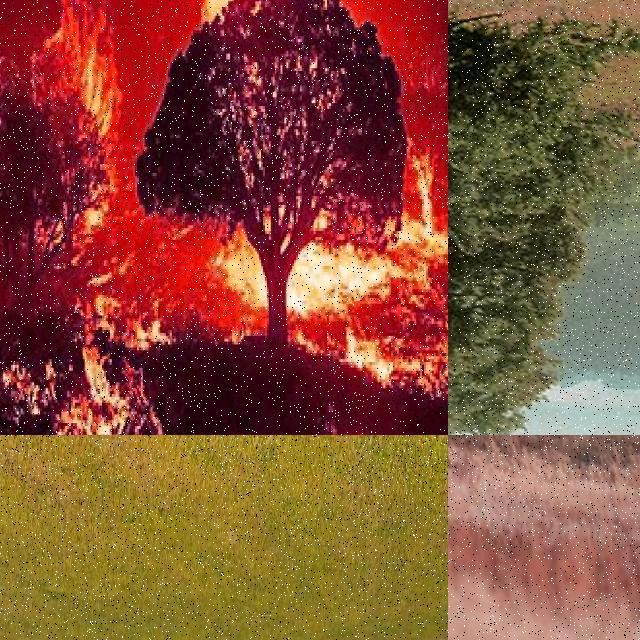tree: (135, 0, 407, 344), (448, 1, 640, 436), (0, 92, 104, 306), (544, 436, 640, 500)
